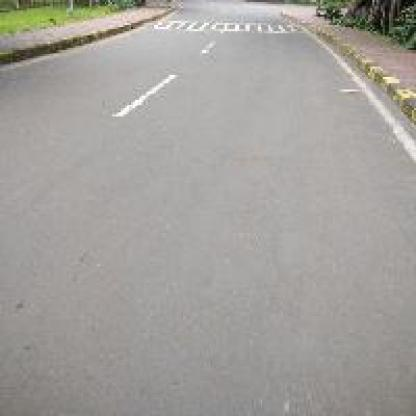Speed Bump: (154, 19, 304, 31)
